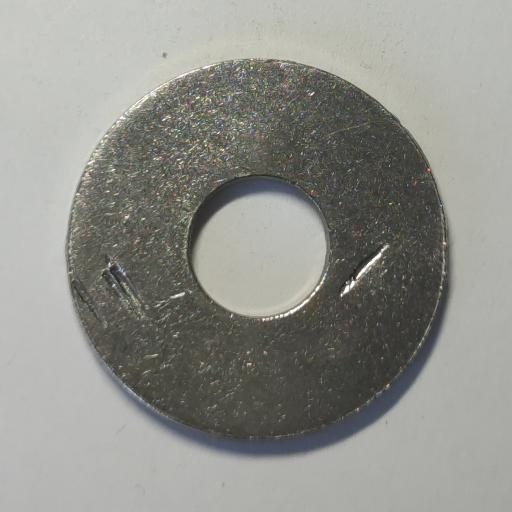scratch: (100, 256, 145, 318), (340, 243, 390, 297), (71, 281, 106, 326)
